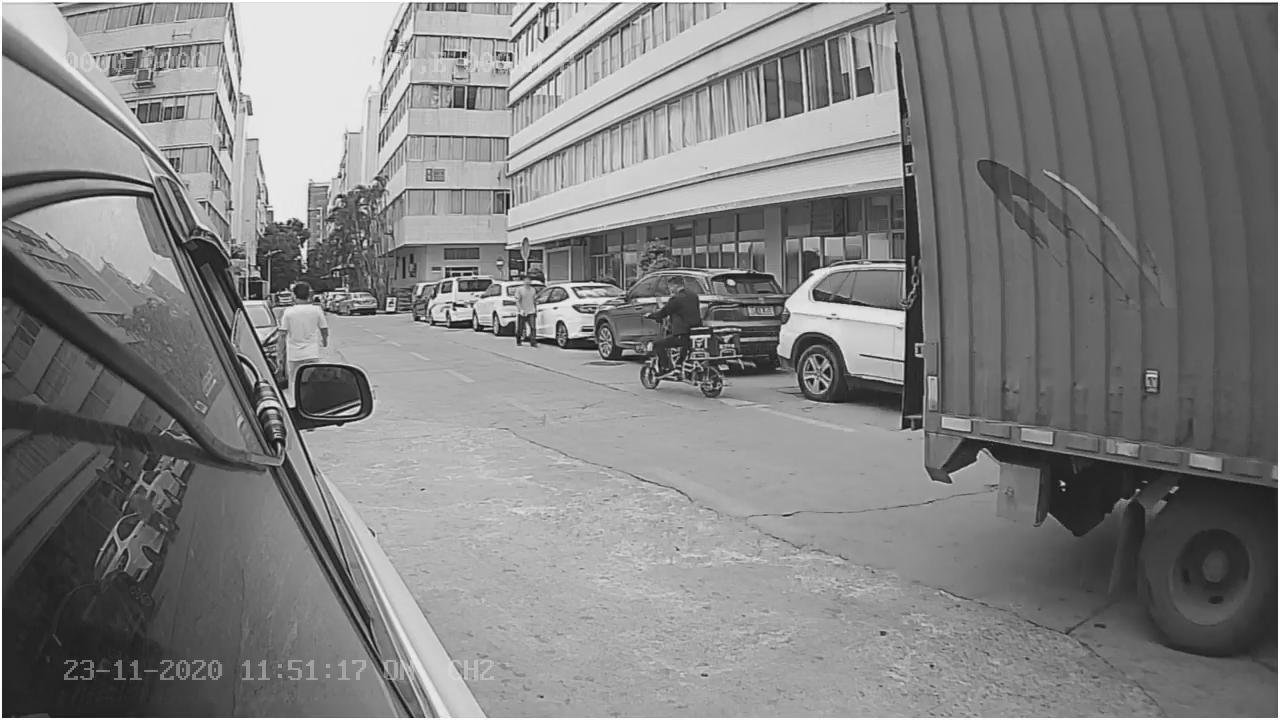person: (649, 269, 704, 330)
